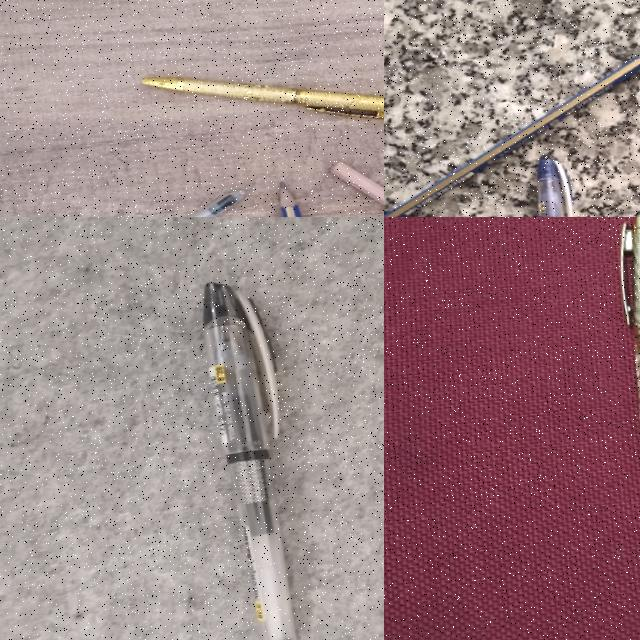pen: (384, 57, 640, 217), (203, 284, 295, 639), (534, 152, 586, 217)
pencil: (384, 56, 640, 217)
signature pen: (147, 51, 384, 140), (607, 217, 640, 516)
